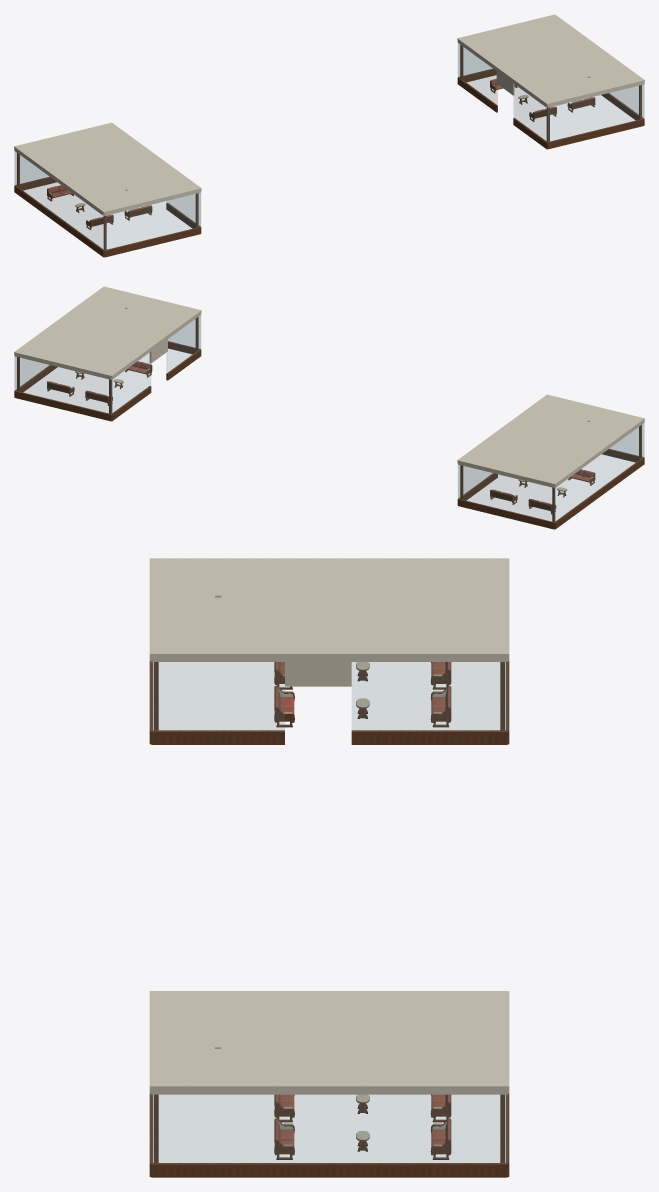
File: AFT_CROWN_SITTING_BAYS_r001.glb
3 views of the same model, one above another, from view 1: azimuth 30°, elevation 25°; view 2: azimuth 150°, elevation 25°; view 3: azimuth 270°, elevation 25° (orthographic). The views are drawn at different scales.
Visible parts, largest first — view 1: ACB_StarboardRoof2, ACB_PortRoof2, ACB_PortSouthGlass, ACB_StarboardSouthGlass, ACB_PortOuterGlass, ACB_StarboardRoof0, ACB_PortRoof7, ACB_PortRoof0, ACB_StarboardRoof7, ACB_StarboardInnerNorthGlass, ACB_StarboardInnerSouthGlass, ACB_PortRoof8 (+8 smaller); view 2: ACB_PortRoof2, ACB_StarboardRoof2, ACB_StarboardNorthGlass, ACB_PortNorthGlass, ACB_PortOuterGlass, ACB_StarboardRoof0, ACB_PortRoof7, ACB_PortRoof0, ACB_StarboardRoof7, ACB_StarboardInnerNorthGlass, ACB_StarboardInnerSouthGlass, ACB_StarboardRoof4 (+8 smaller); view 3: ACB_StarboardOuterGlass, ACB_PortRoof2, ACB_StarboardRoof2, ACB_PortRoof7, ACB_PortInnerNorthGlass, ACB_StarboardRoof0, ACB_PortInnerSouthGlass, ACB_StarboardRoof7, ACB_PortRoof0, ACB_StarboardOuterDado, ACB_StarboardRoof4, ACB_PortRoof8 (+5 smaller).
Part boxes in pixels (x1,y1,x2,y2): ACB_StarboardRoof2: [458, 14, 586, 76]; ACB_PortRoof2: [14, 122, 125, 188]; ACB_PortSouthGlass: [104, 193, 200, 249]; ACB_StarboardSouthGlass: [547, 85, 643, 141]; ACB_PortOuterGlass: [14, 151, 104, 249]; ACB_StarboardRoof0: [457, 38, 586, 104]; ACB_PortRoof7: [112, 123, 201, 189]; ACB_PortRoof0: [14, 146, 123, 212]; ACB_StarboardRoof7: [555, 14, 644, 79]; ACB_StarboardInnerNorthGlass: [458, 43, 497, 105]; ACB_StarboardInnerSouthGlass: [513, 85, 547, 141]; ACB_PortRoof8: [104, 188, 201, 213]; ACB_PortRoof2: [457, 422, 586, 485]; ACB_StarboardRoof2: [14, 309, 125, 377]; ACB_StarboardNorthGlass: [15, 357, 111, 413]; ACB_PortNorthGlass: [458, 465, 554, 521]; ACB_PortOuterGlass: [554, 423, 644, 521]; ACB_StarboardRoof0: [112, 309, 201, 376]; ACB_PortRoof7: [458, 394, 586, 459]; ACB_PortRoof0: [555, 418, 644, 484]; ACB_StarboardRoof7: [14, 286, 123, 351]; ACB_StarboardInnerNorthGlass: [111, 353, 150, 413]; ACB_StarboardInnerSouthGlass: [166, 315, 200, 373]; ACB_StarboardRoof4: [104, 286, 200, 310]; ACB_StarboardOuterGlass: [152, 1095, 506, 1163]; ACB_PortRoof2: [222, 558, 509, 653]; ACB_StarboardRoof2: [221, 991, 509, 1086]; ACB_PortRoof7: [149, 597, 509, 656]; ACB_PortInnerNorthGlass: [352, 662, 506, 731]; ACB_StarboardRoof0: [150, 991, 507, 1046]; ACB_PortInnerSouthGlass: [152, 662, 284, 731]; ACB_StarboardRoof7: [149, 1049, 509, 1088]; ACB_PortRoof0: [150, 558, 507, 595]; ACB_StarboardOuterDado: [151, 1163, 507, 1177]; ACB_StarboardRoof4: [149, 991, 214, 1085]; ACB_PortRoof8: [149, 558, 214, 653].
Size of the model in its own units: 56.16 by 4.52 by 16.16.
13 materials, 12 textured.
